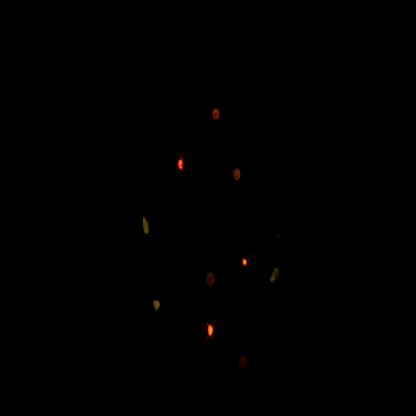PP: (264, 253, 283, 306), (135, 211, 158, 247), (150, 290, 166, 320)
PS: (205, 99, 226, 138), (227, 157, 248, 193), (202, 265, 219, 294), (238, 347, 251, 383)
PVC: (174, 146, 191, 182), (204, 316, 221, 346), (240, 252, 253, 277)
